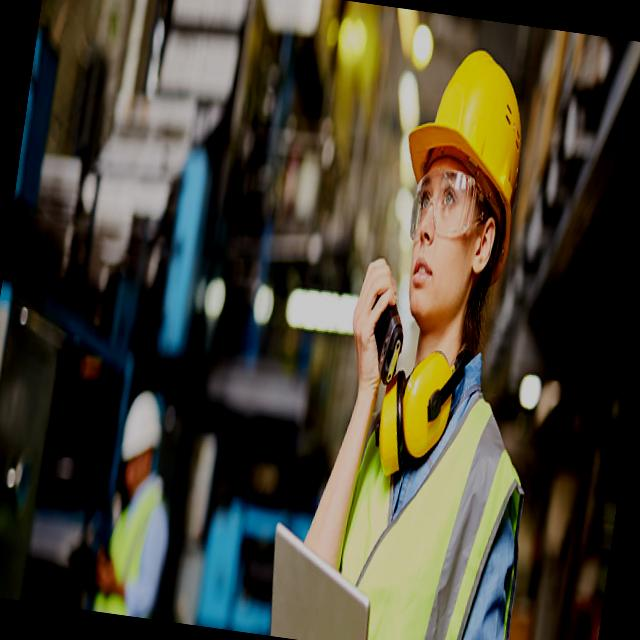goggles: (403, 157, 502, 250)
helmet: (397, 37, 543, 216), (110, 378, 171, 469)
vest: (319, 349, 538, 640), (90, 484, 171, 620)
